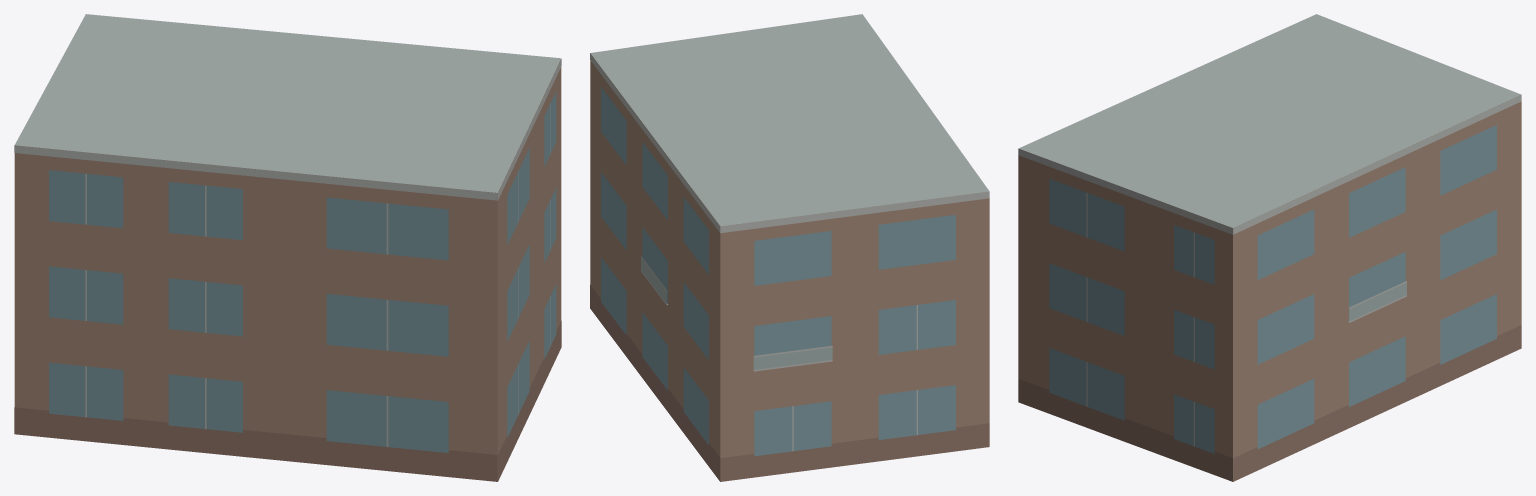
File: survey-upis-32722078.glb
The picture shows the model from 3 angles, left to right: view 1: azimuth 30°, elevation 25°; view 2: azimuth 150°, elevation 25°; view 3: azimuth 270°, elevation 25°; orthographic projection. The views are drawn at different scales.
Parts seen in each view (by area): view 1: survey-upis-32722078.tmp; view 2: survey-upis-32722078.tmp; view 3: survey-upis-32722078.tmp.
Part boxes in pixels (x1,y1,x2,y2): survey-upis-32722078.tmp: (14,14,561,481); survey-upis-32722078.tmp: (590,14,989,481); survey-upis-32722078.tmp: (1018,14,1521,481).
Bounding box in the file's own units: 16.56 × 9.15 × 16.45.
